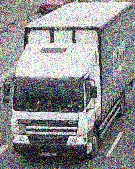truck: (10, 3, 129, 162)
